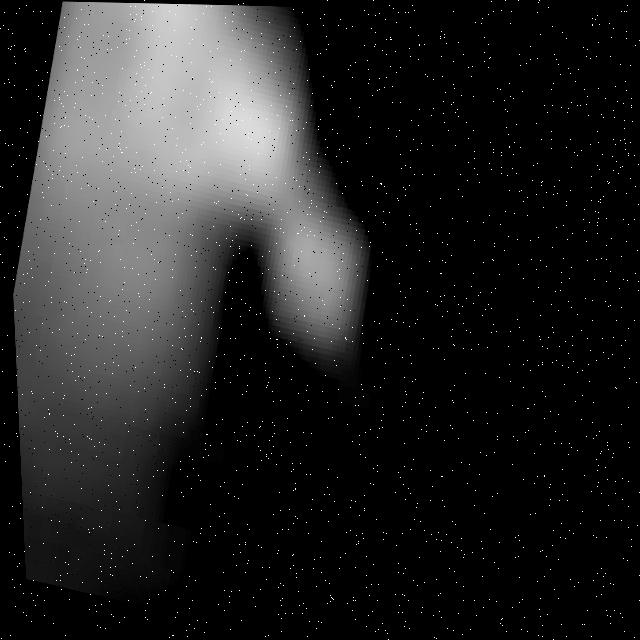person: (1, 1, 418, 562)
